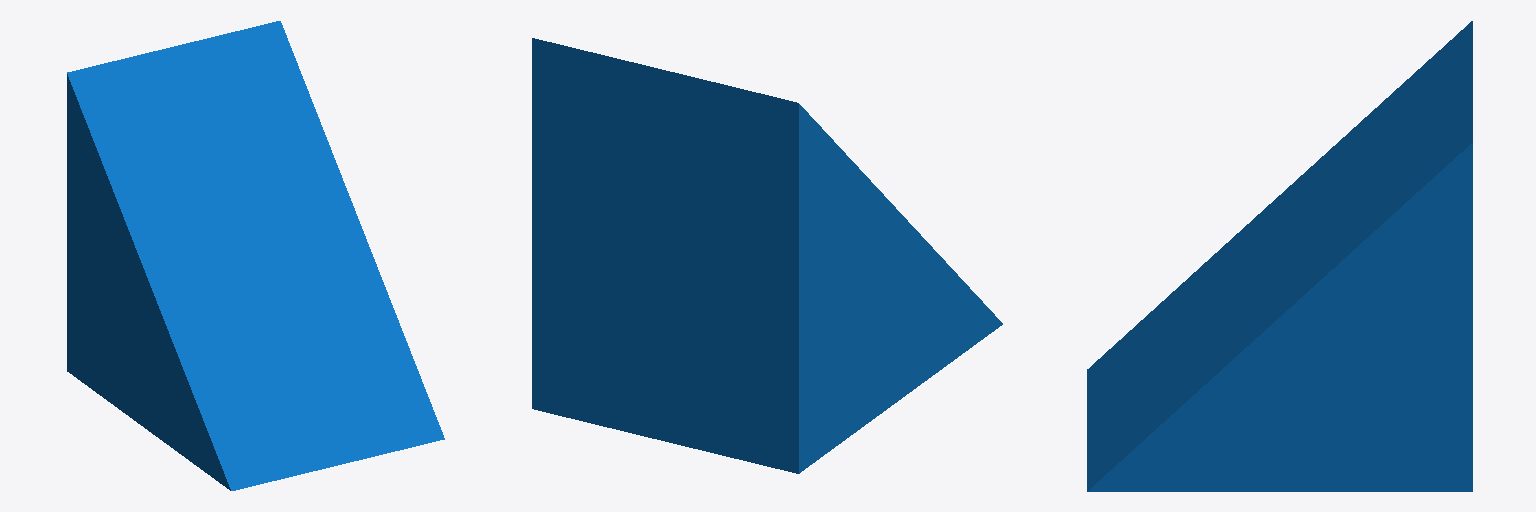
URDF robot description (triangle):
<?xml version="0.0" ?>
<robot name="triangle">
  <link name="baseLink">
    <contact>
      <lateral_friction value="1.0"/>
      <rolling_friction value="0.0"/>
      <contact_cfm value="0.0"/>
      <contact_erp value="1.0"/>
    </contact>
    <inertial>
      <mass value="0.020"/>
      <origin rpy="0 0 0" xyz="0 0 0"/>
      <inertia ixx="1.0e-6" ixy="0" ixz="0" iyy="1.0e-6" iyz="0" izz="1.0e-6"/>
    </inertial>
    <visual>
      <origin rpy="0 0 0" xyz="0 0 0"/>
      <geometry>
        <mesh filename="meshes/triangle.obj"/>
      </geometry>
      <material name="white">
        <color rgba="0.1 0.5 0.8 1"/>
      </material>
    </visual>
    <collision>
      <origin rpy="0 0 0" xyz="0 0 0"/>
      <geometry>
        <mesh filename="meshes/triangle.obj"/>
      </geometry>
    </collision>
  </link>
</robot>

--- Facts derived from the render (not from the file) ---
Views: 3 orthographic renders of the robot side by side, from view 1: azimuth 30°, elevation 25°; view 2: azimuth 150°, elevation 25°; view 3: azimuth 270°, elevation 25°.
Model triangle with 1 links and 0 joints (none), rooted at baseLink, posed all joints at 0.
Links seen in each view (by area): view 1: baseLink; view 2: baseLink; view 3: baseLink.
Boxes of the visible links, x1,y1,x2,y2 form: baseLink: [67, 21, 444, 490]; baseLink: [532, 38, 1002, 473]; baseLink: [1087, 21, 1472, 491].
Bounding box of the posed robot: 0.03 × 0.04 × 0.04 m (x, y, z).
1 mesh visuals loaded from 1 distinct referenced files (1 OBJ).